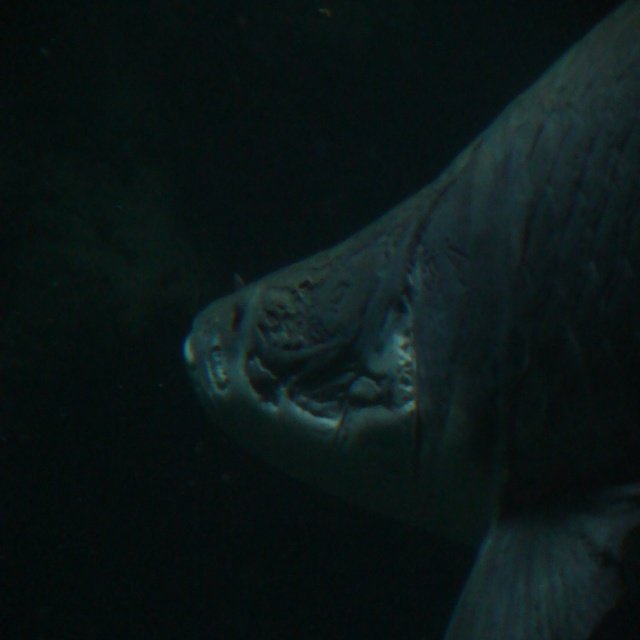Fish: (183, 4, 640, 639)
